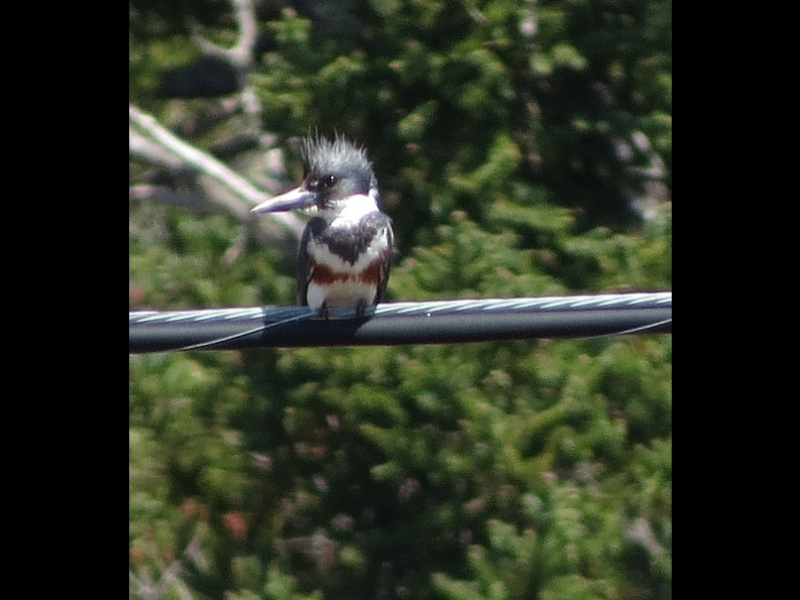kingfisher: (247, 127, 398, 328)
